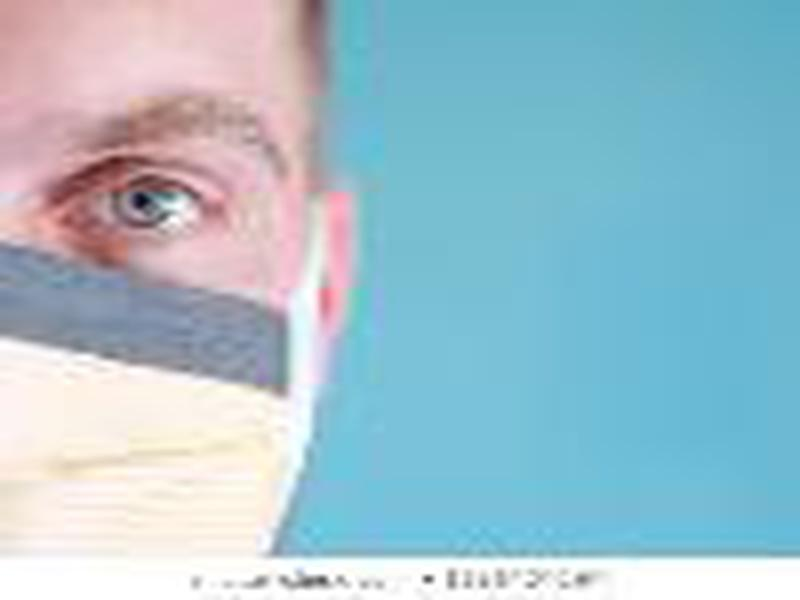with_mask: (1, 2, 324, 552)
